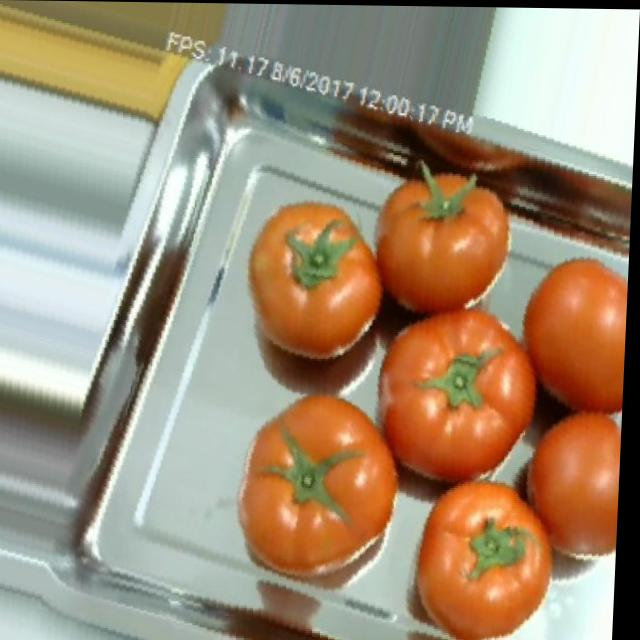kirmizi: (576, 297, 608, 351)
